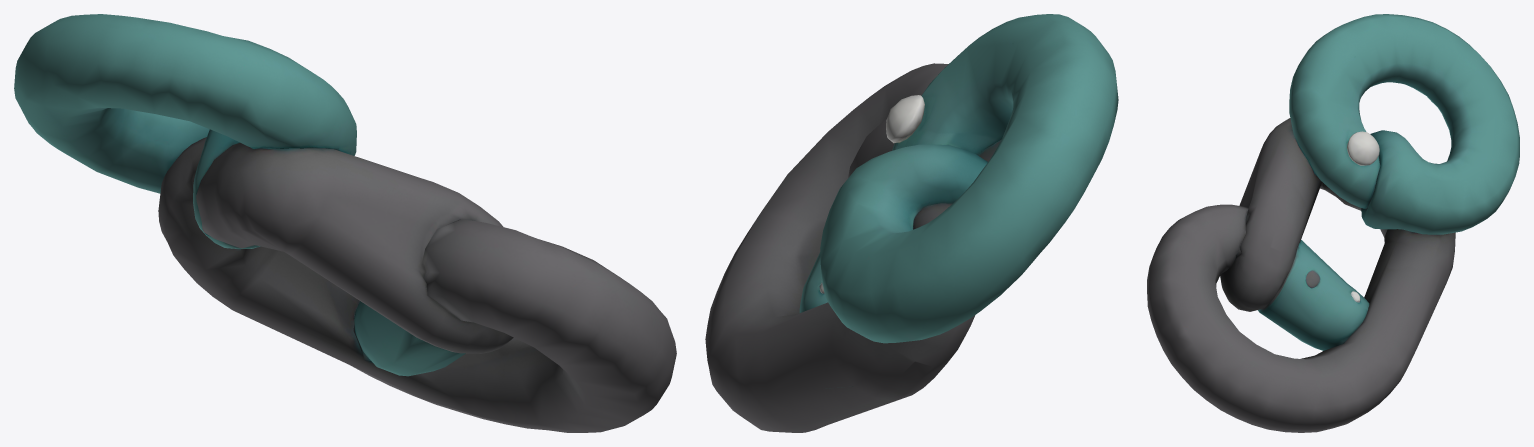
The model's file is icon-chain.glb.
The picture shows the model from 3 angles, left to right: view 1: azimuth 30°, elevation 25°; view 2: azimuth 150°, elevation 25°; view 3: azimuth 270°, elevation 25°; orthographic projection. The views are drawn at different scales.
Parts seen in each view (by area): view 1: tripo_node_kodyurd-model-29____________________; view 2: tripo_node_kodyurd-model-29____________________; view 3: tripo_node_kodyurd-model-29____________________.
Boxes of the visible parts, x1,y1,x2,y2 form: tripo_node_kodyurd-model-29____________________: (14, 14, 676, 432); tripo_node_kodyurd-model-29____________________: (705, 14, 1118, 432); tripo_node_kodyurd-model-29____________________: (1147, 14, 1519, 432).
Size of the model in its own units: 0.9785 by 0.8926 by 0.998.
Materials: 1 (1 with a texture image).
